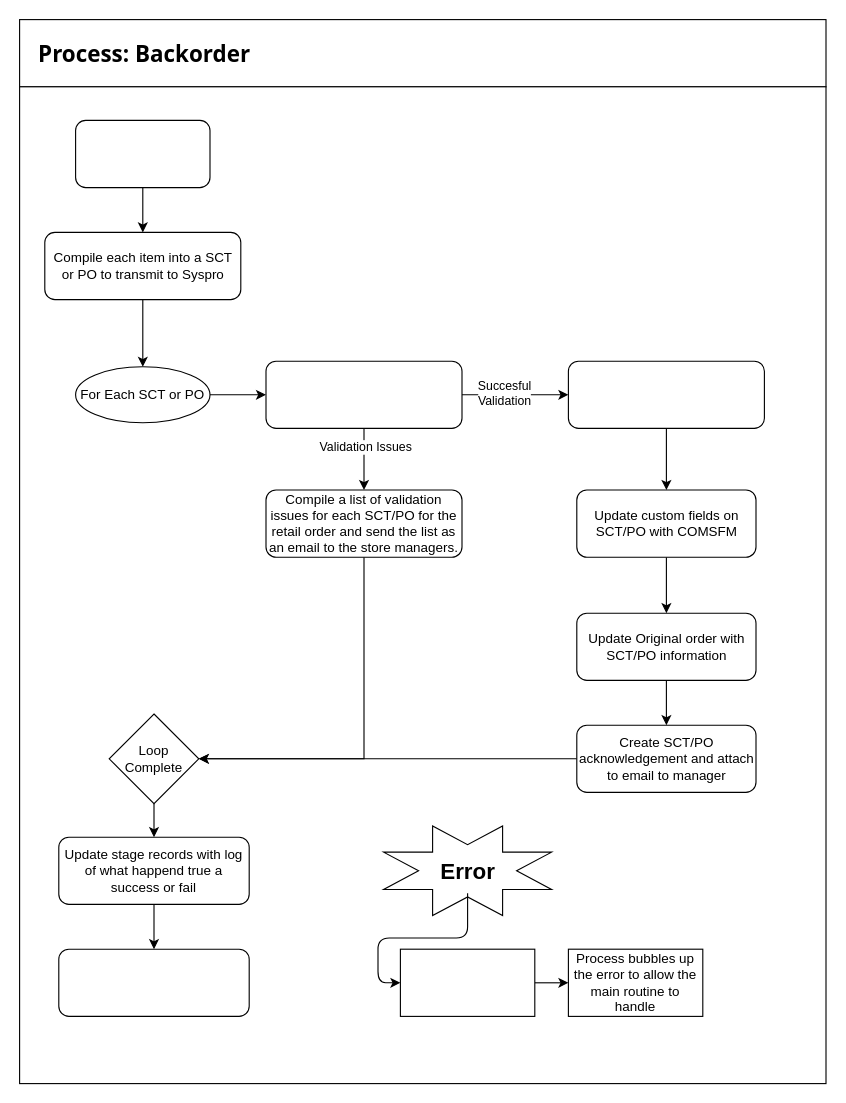
Image size: 846x1103. Some labels were removed from this diagram. The shapes that lost their labels are listed below. From the top down, each one's box as (x1, y1, x2, y2) in pixels, then its label:
(74, 119, 210, 188): ProcessBackorder : Start
(265, 360, 462, 428): Validate PORTOI (PO) / SORTOI(SCT) against Syspro
(567, 360, 764, 428): Transmit each object to Syspro
(58, 948, 249, 1016): Return to main routine loop with a success
(399, 948, 535, 1016): Log is created to capture what happend
